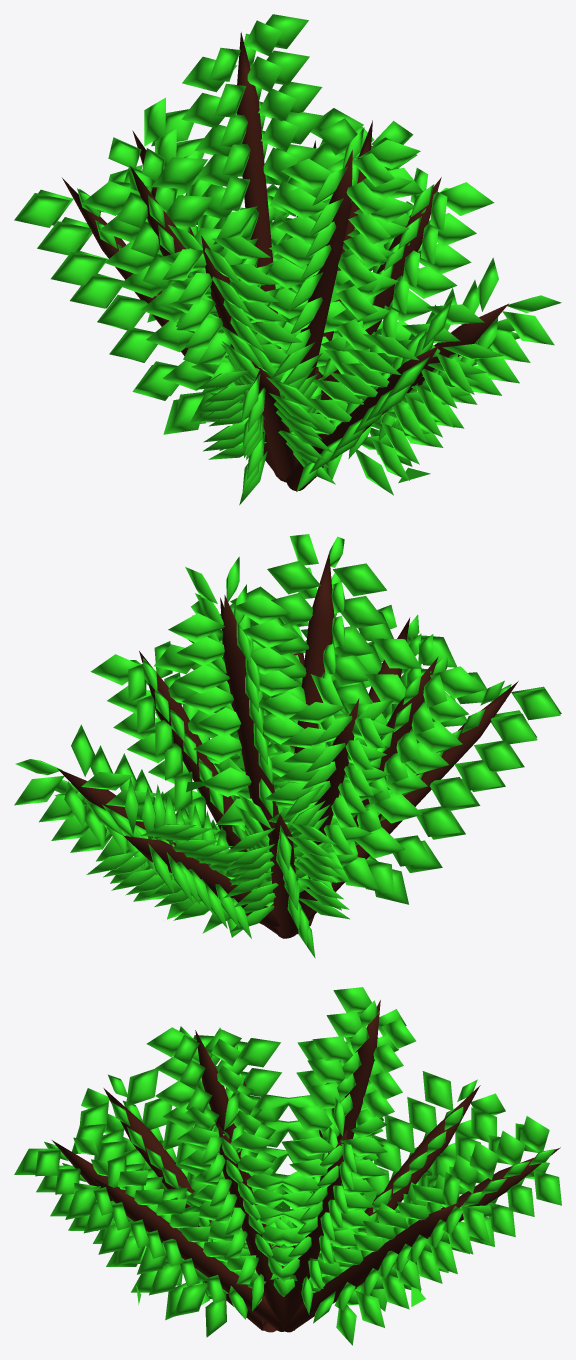
File: Bush.FBX
3 views of the same model, one above another, from view 1: azimuth 30°, elevation 25°; view 2: azimuth 150°, elevation 25°; view 3: azimuth 270°, elevation 25° (orthographic). The views are drawn at different scales.
Visible parts, largest first — view 1: Cylinder007; view 2: Cylinder007; view 3: Cylinder007.
Boxes of the visible parts, <box> form: Cylinder007: <box>14,14,561,505</box>; Cylinder007: <box>14,534,561,958</box>; Cylinder007: <box>14,987,561,1345</box>.
Size of the model in its own units: 48.49 by 50.76 by 72.05.
